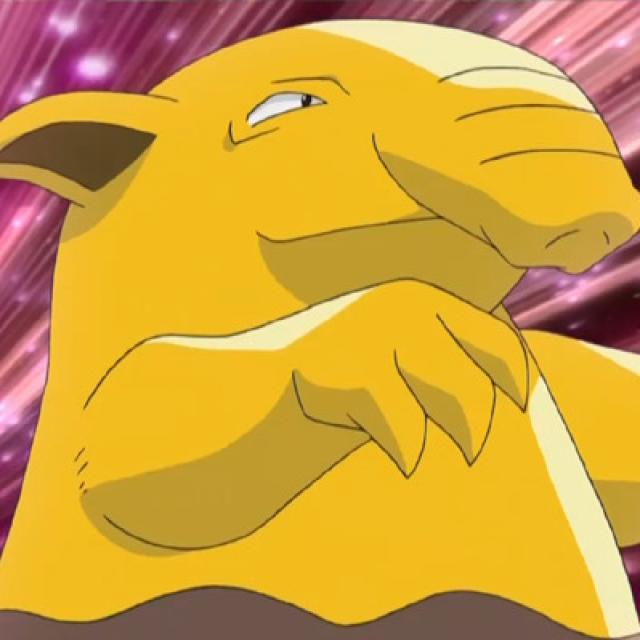Drowzee: (0, 9, 640, 640)
